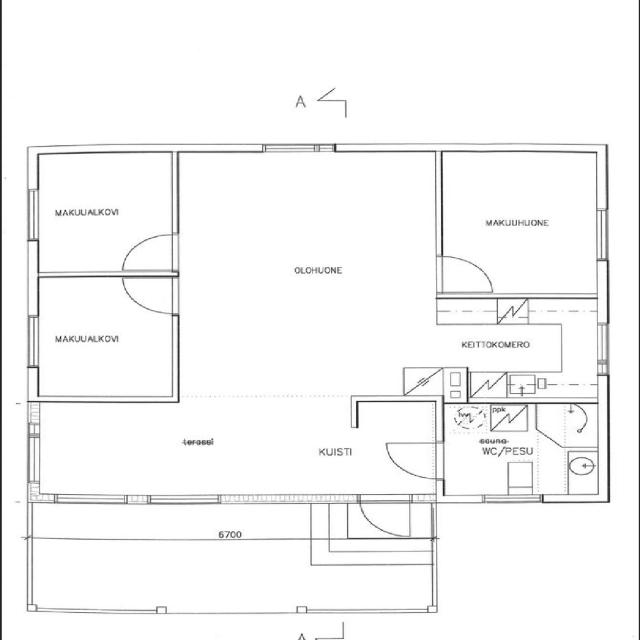door: (120, 274, 182, 316), (382, 440, 445, 481), (438, 252, 498, 295), (118, 231, 179, 273), (356, 496, 415, 538), (402, 366, 445, 397)
window: (590, 205, 615, 263), (21, 313, 46, 370), (21, 186, 46, 242), (22, 432, 46, 486), (261, 140, 340, 156), (51, 492, 132, 506), (592, 321, 614, 371), (150, 493, 220, 506)
zone: (438, 149, 606, 297), (29, 276, 178, 400), (30, 150, 176, 276), (439, 402, 596, 499), (453, 309, 608, 401), (352, 400, 442, 444), (401, 366, 443, 396), (442, 369, 468, 403)
